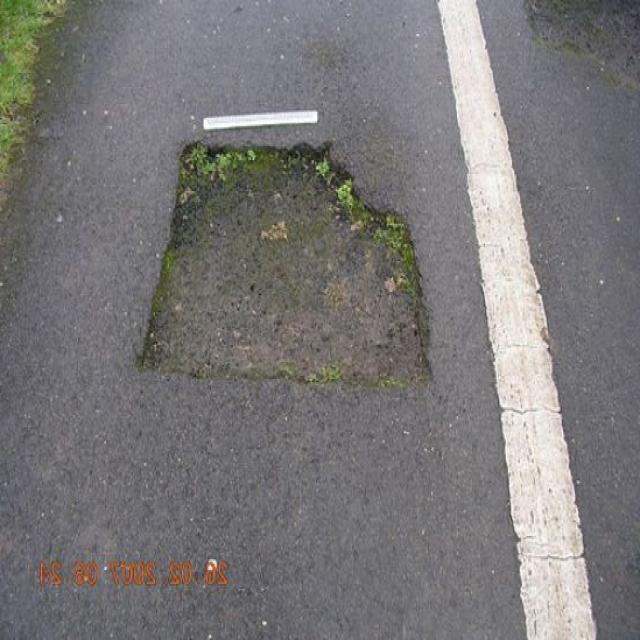Pothole: (134, 128, 444, 397)
